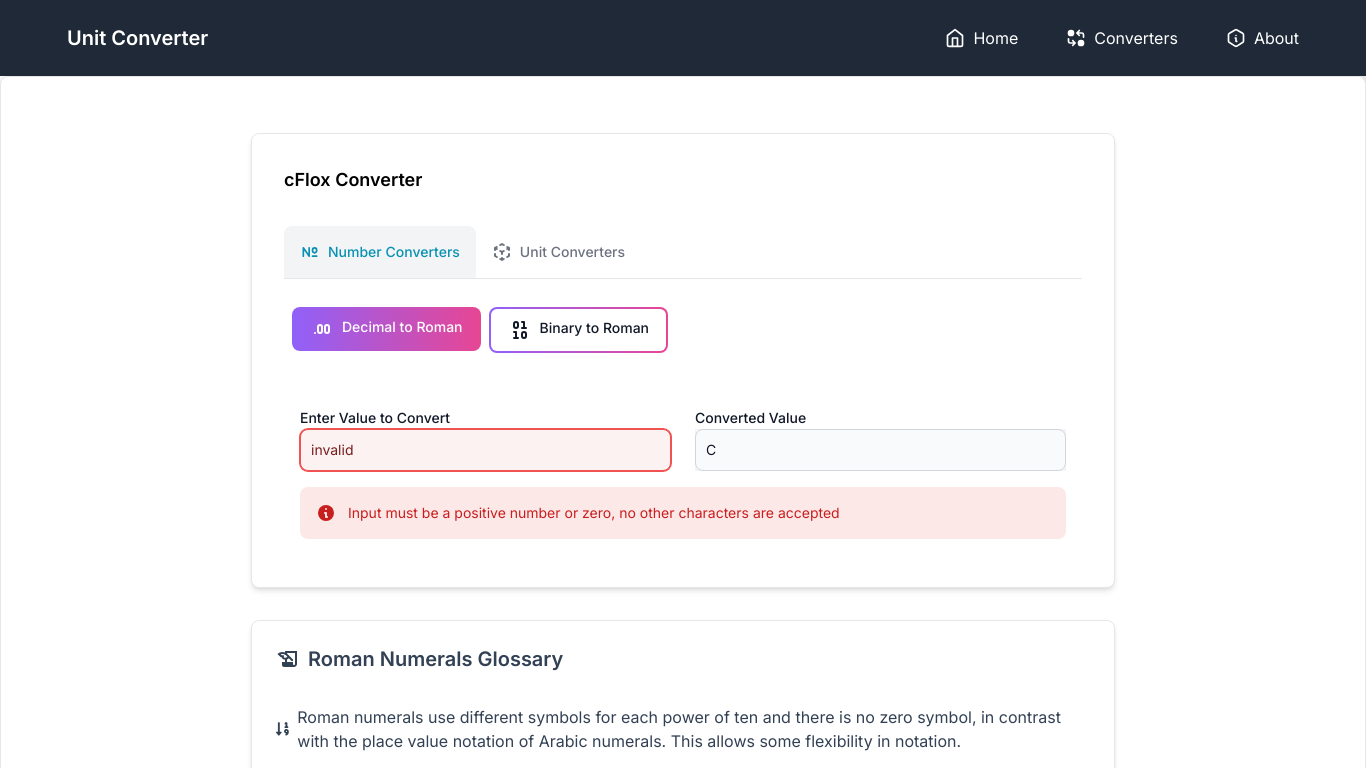
Test case: Converter Page E2E Tests › Number Converters Tests › displays a loading state during Binary to Roman conversion
Click the button "Binary to Roman": (579, 330) [489,307,669,353]
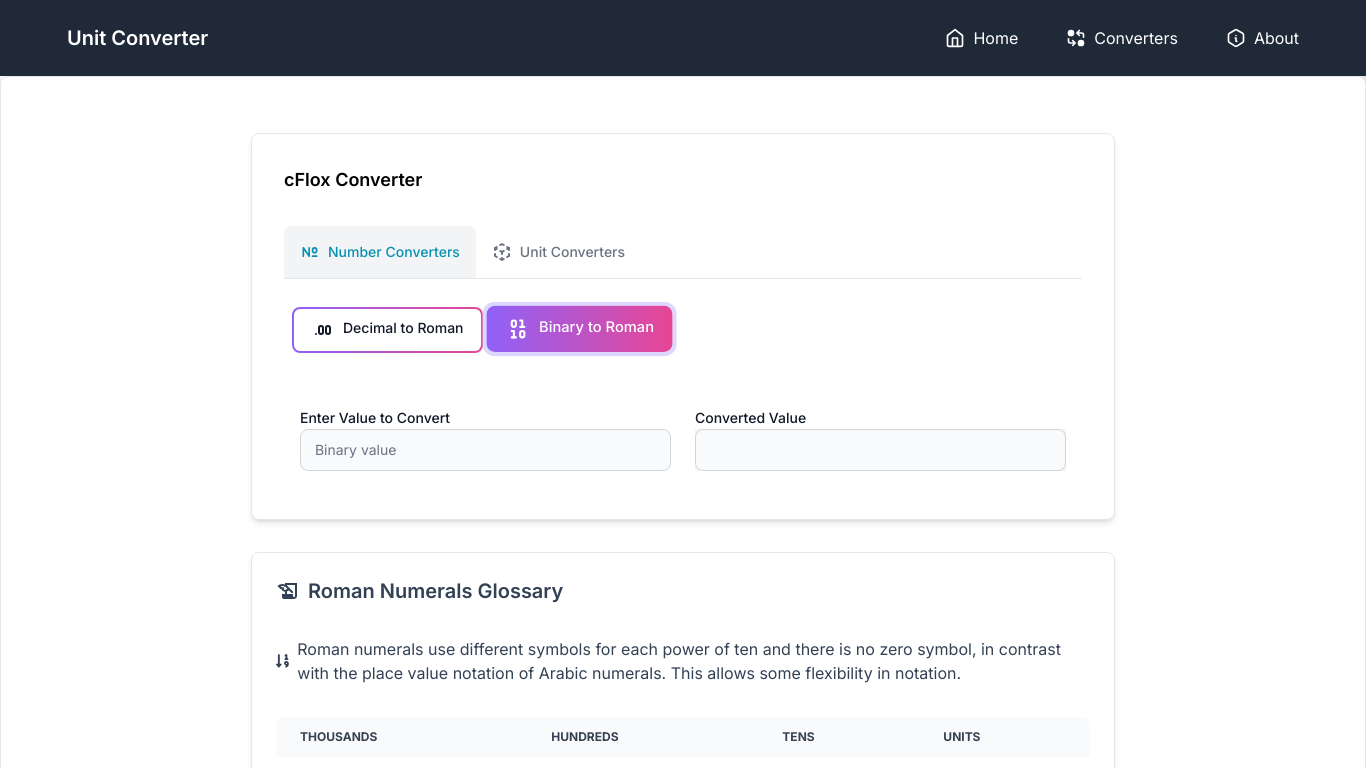
In the field with test id "test-input-value": (486, 450) [300,429,671,471], type "1010"
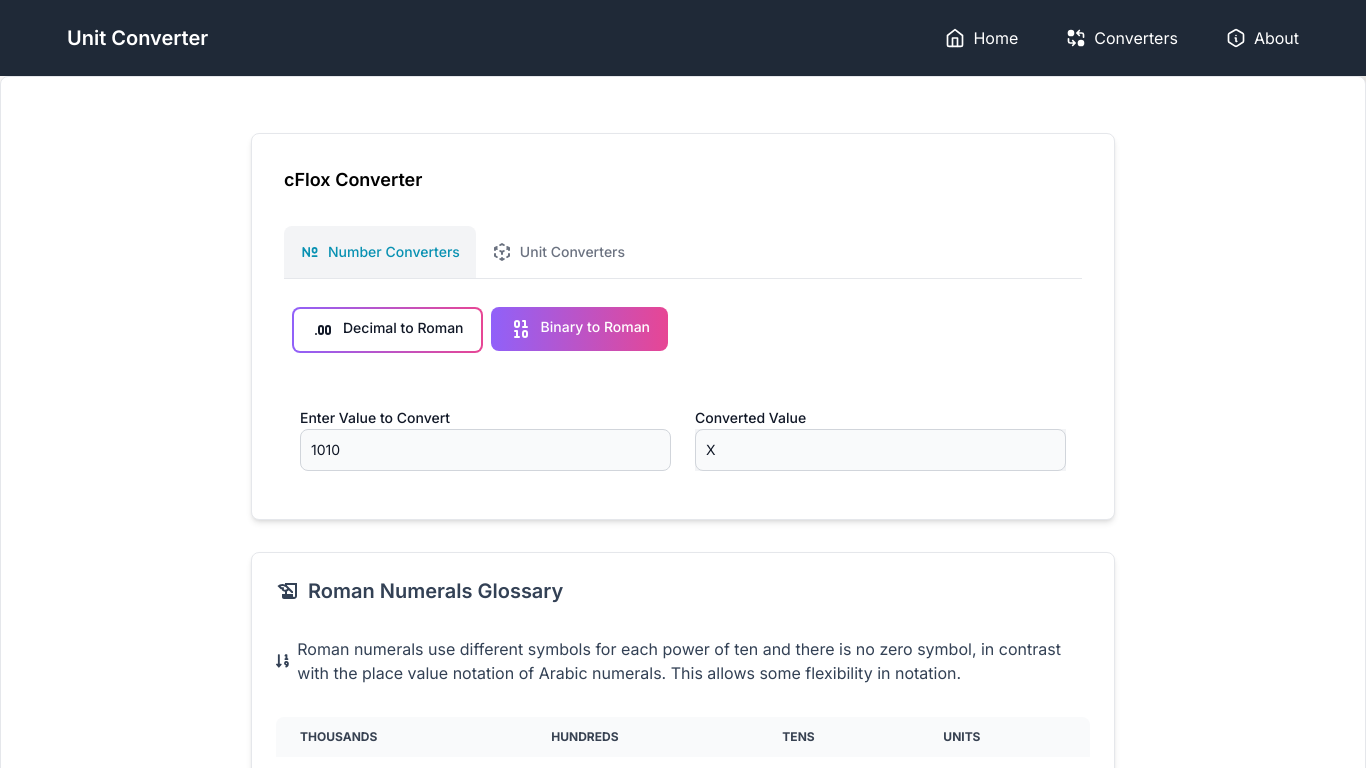
Now the field with test id "test-output-value" holds "X", box [695,429,1066,471]
